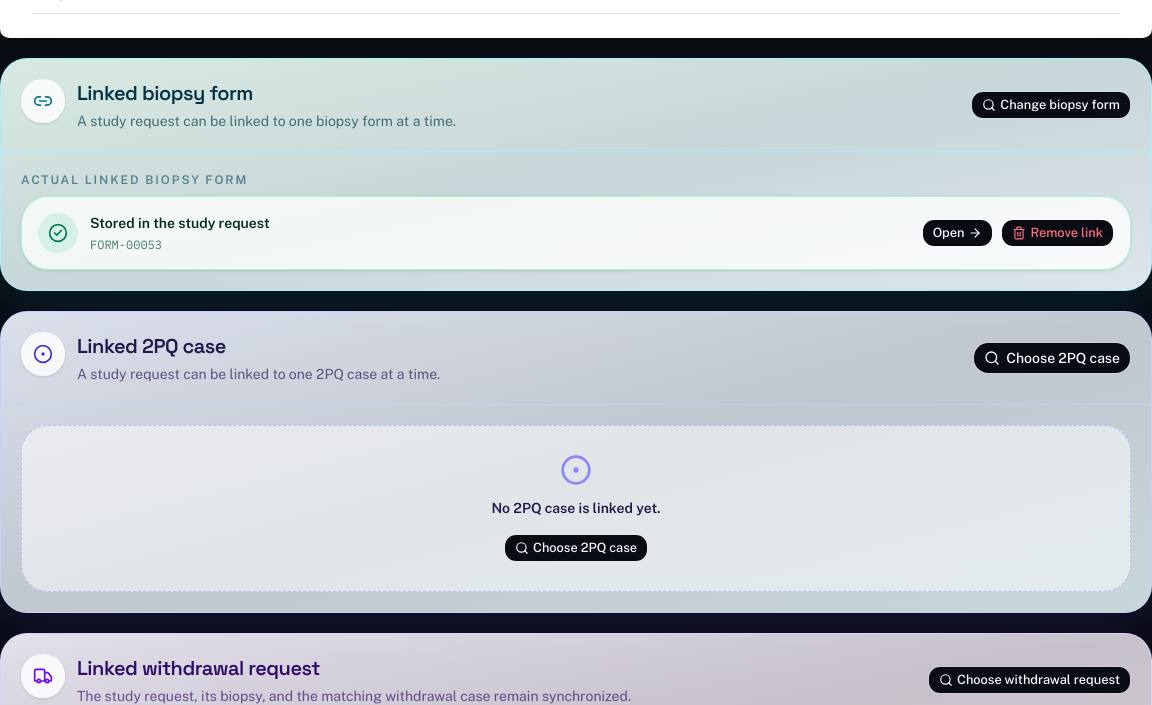
TwoPQFormDetail › can choose, open, and remove the single linked 2PQ case
(page scrolled)
expect the element "Linked 2PQ case" is shown: met, box [0,311,1151,613]
expect the text "No 2PQ case is linked yet." is shown: met, box [491,500,660,516]
Click the button "Choose 2PQ case" in the row of "Linked 2PQ case" at {"x": 1052, "y": 358}, box [973,342,1131,374]
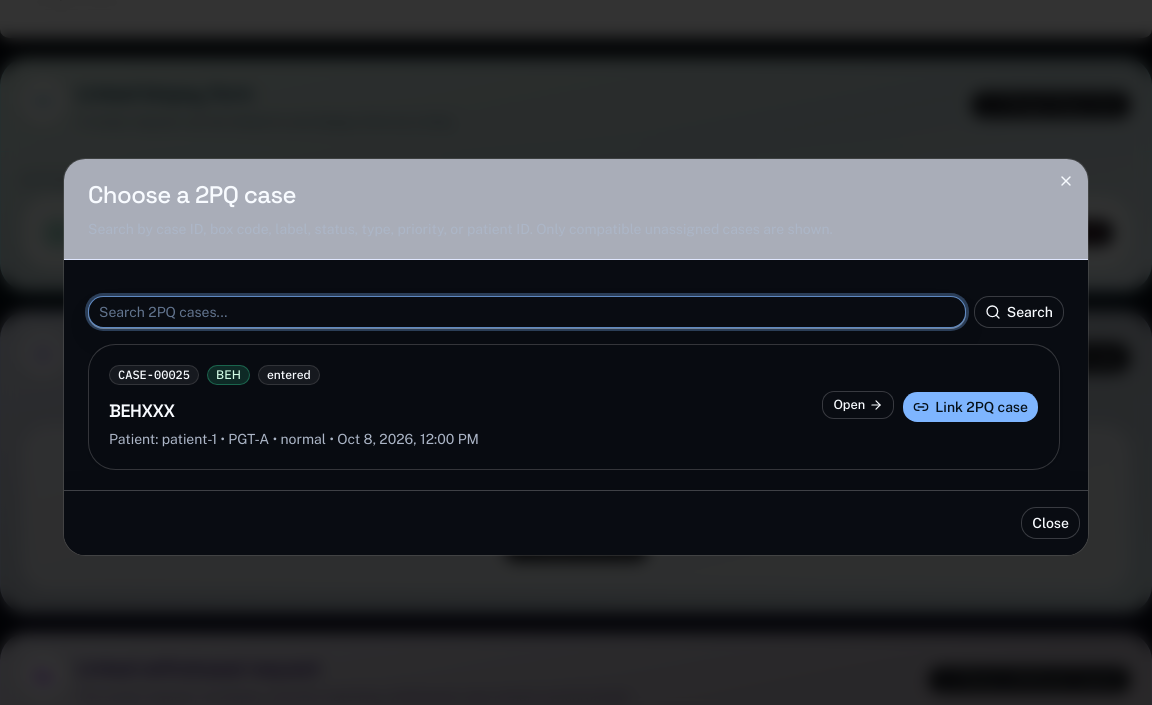
expect the heading "BEHXXX" is shown: met, box [109,399,175,422]
Click the button "Link 2PQ case" at {"x": 971, "y": 407}, box [902,391,1039,423]
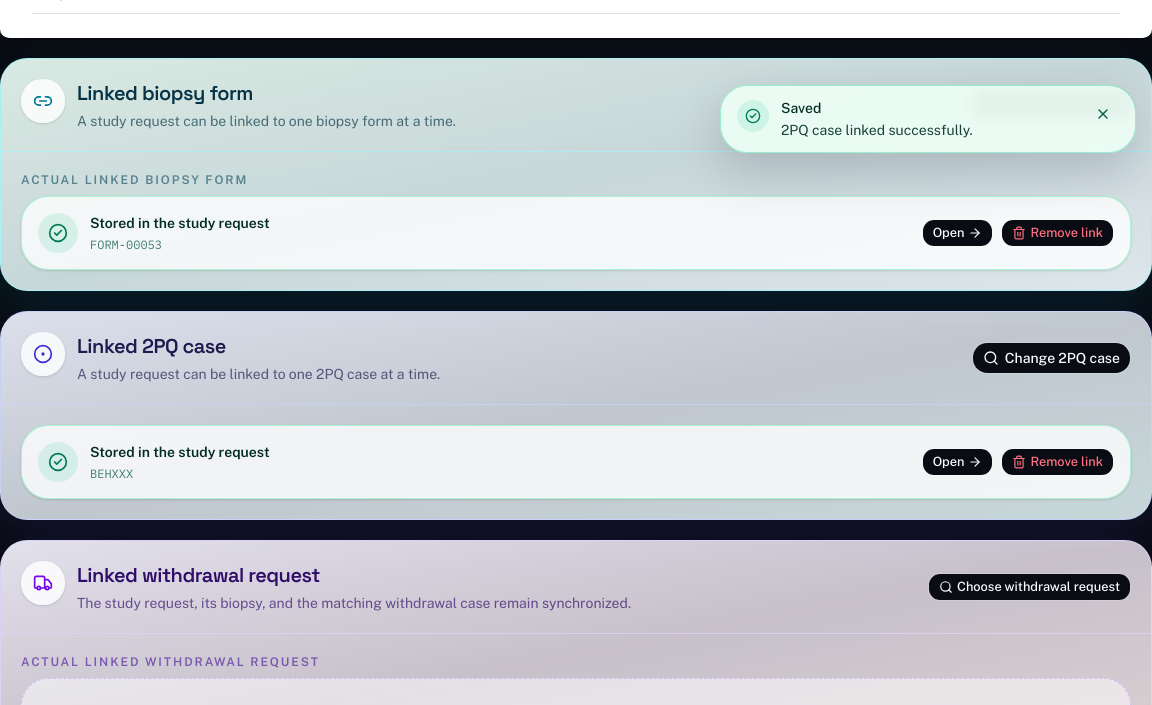
expect the text "BEHXXX" is shown: met, box [90,466,133,481]
expect the text "CASE-00025" is gone: met
Click the button "Remove link" in the row of "BEHXXX" at {"x": 1058, "y": 462}, box [1001,448,1114,476]
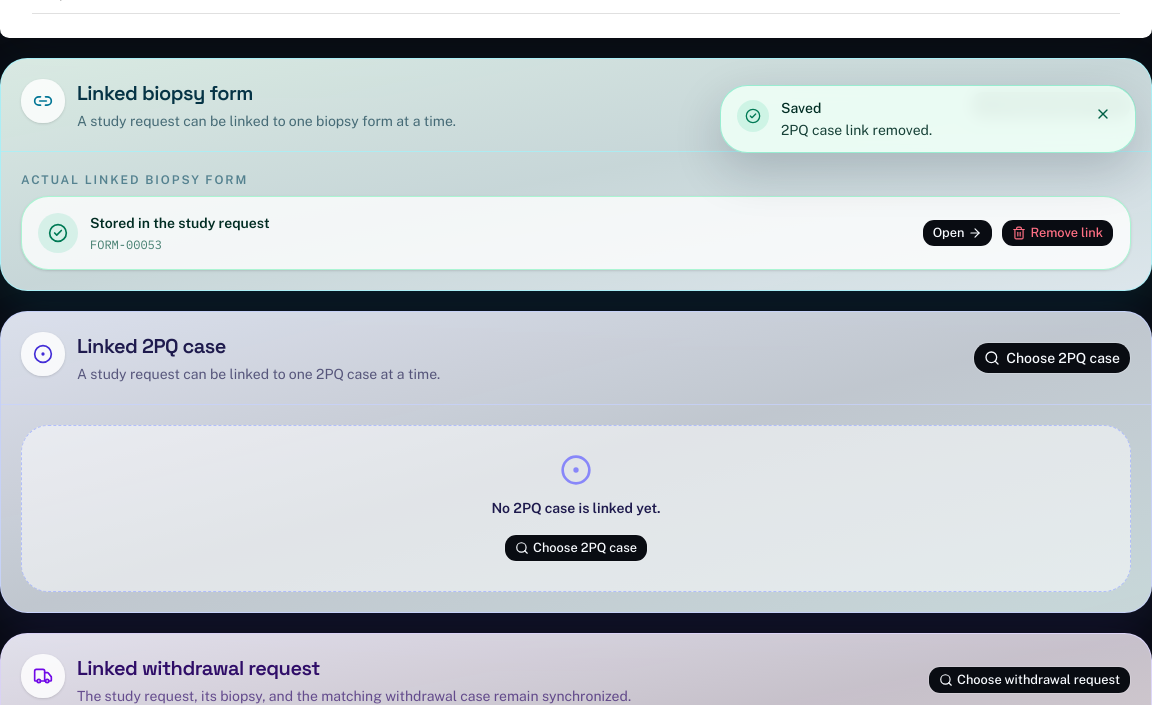
expect the text "No 2PQ case is linked yet." is shown: met, box [491,500,660,516]
